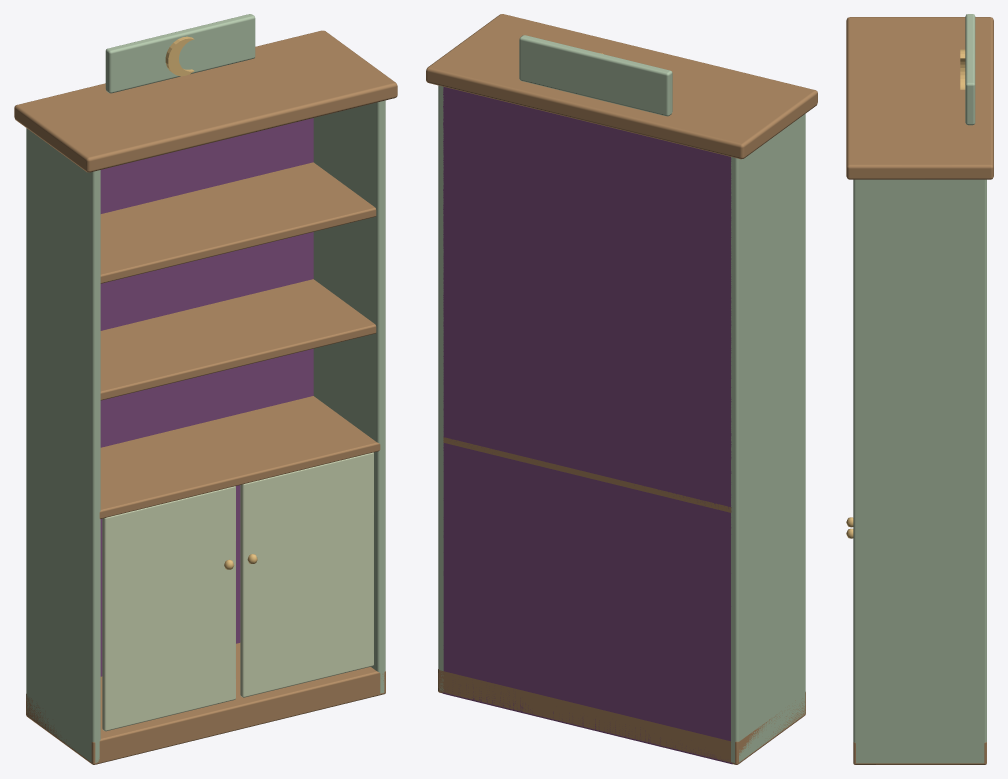
The model's file is Curio_Cabinet.fbx.
3 renders of one model, left to right at view 1: azimuth 30°, elevation 25°; view 2: azimuth 150°, elevation 25°; view 3: azimuth 270°, elevation 25°, orthographic. The views are drawn at different scales.
Visible parts, largest first — view 1: Curio_Cabinet_Mesh; view 2: Curio_Cabinet_Mesh; view 3: Curio_Cabinet_Mesh.
Part boxes in pixels (bbox=[...]): Curio_Cabinet_Mesh: bbox=[14, 14, 397, 764]; Curio_Cabinet_Mesh: bbox=[426, 14, 817, 764]; Curio_Cabinet_Mesh: bbox=[846, 14, 993, 764].
Bounding box in the file's own units: 1.06 × 2.13 × 0.441.
